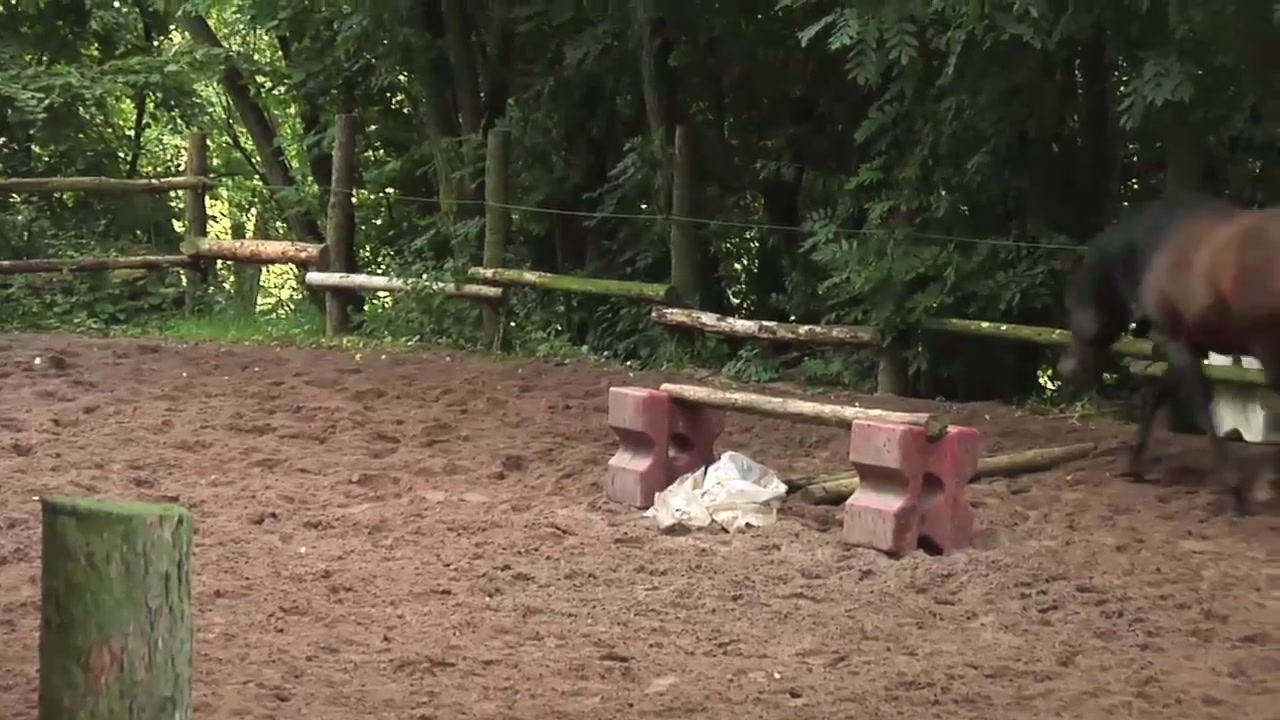horse: (1054, 198, 1279, 515)
